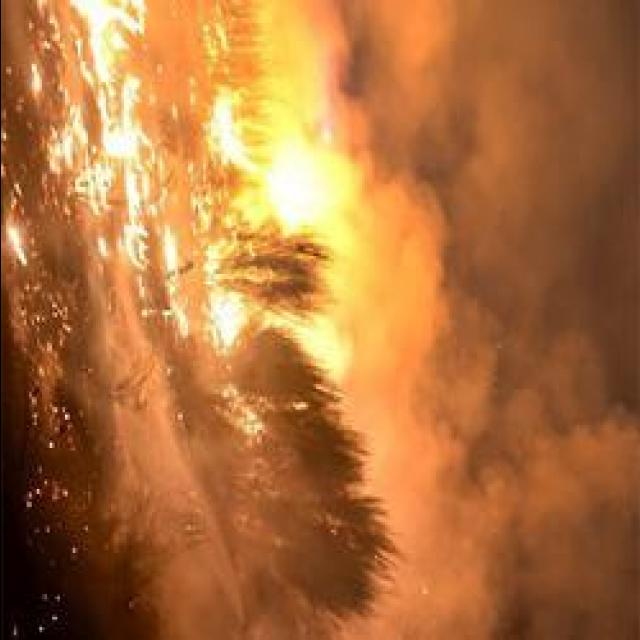fire: (277, 164, 315, 208), (76, 164, 114, 198), (90, 34, 112, 82), (212, 302, 240, 338), (212, 104, 238, 142), (109, 126, 135, 158), (86, 5, 110, 28), (162, 234, 175, 264)
smoke: (476, 70, 614, 298), (517, 404, 640, 640), (397, 453, 511, 640), (358, 180, 454, 387), (384, 329, 513, 473), (362, 4, 466, 140), (268, 2, 384, 114), (331, 110, 393, 230)
